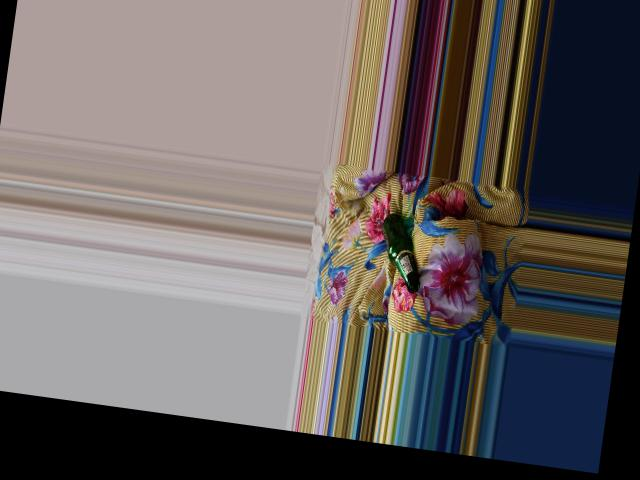beer: (374, 213, 429, 293)
